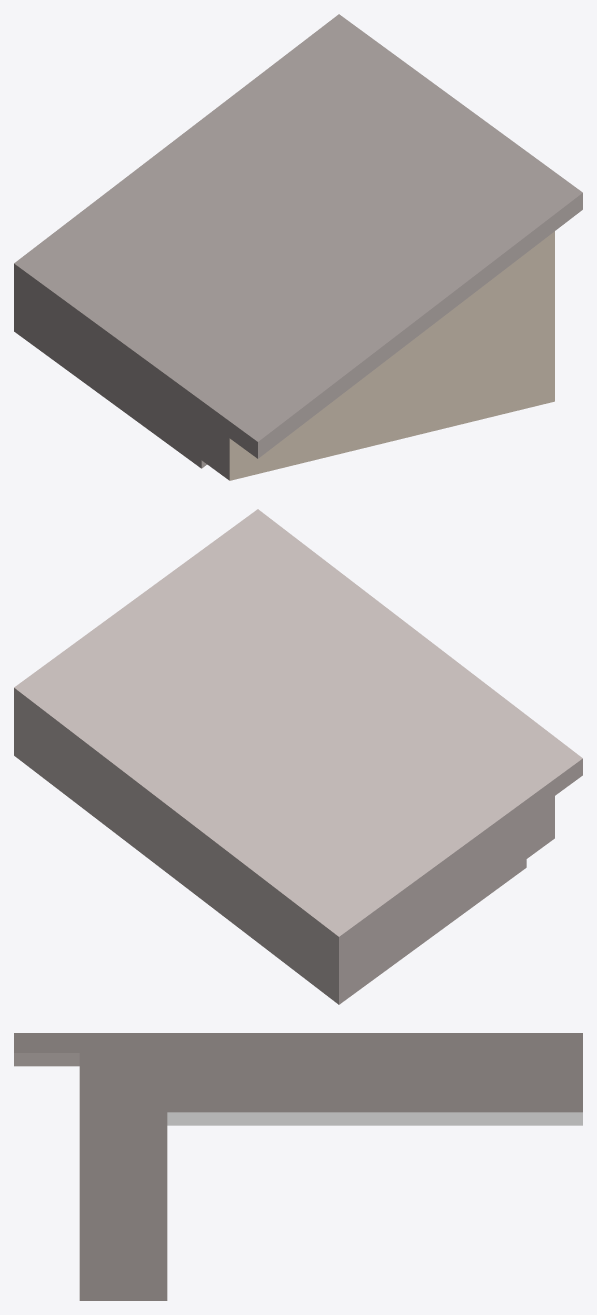
The model's file is Structure_Roof_Edge_Half.glb.
3 renders of one model, top to bottom at view 1: azimuth 30°, elevation 25°; view 2: azimuth 150°, elevation 25°; view 3: azimuth 270°, elevation 25°, orthographic. The views are drawn at different scales.
Visible parts, largest first — view 1: Structure_Roof_Edge_Half; view 2: Structure_Roof_Edge_Half; view 3: Structure_Roof_Edge_Half.
Boxes of the visible parts, x1=… form: Structure_Roof_Edge_Half: x1=14, y1=14, x2=582, y2=480; Structure_Roof_Edge_Half: x1=14, y1=509, x2=582, y2=1004; Structure_Roof_Edge_Half: x1=14, y1=1033, x2=582, y2=1300.
Size of the model in its own units: 0.45 by 0.315 by 0.585.
